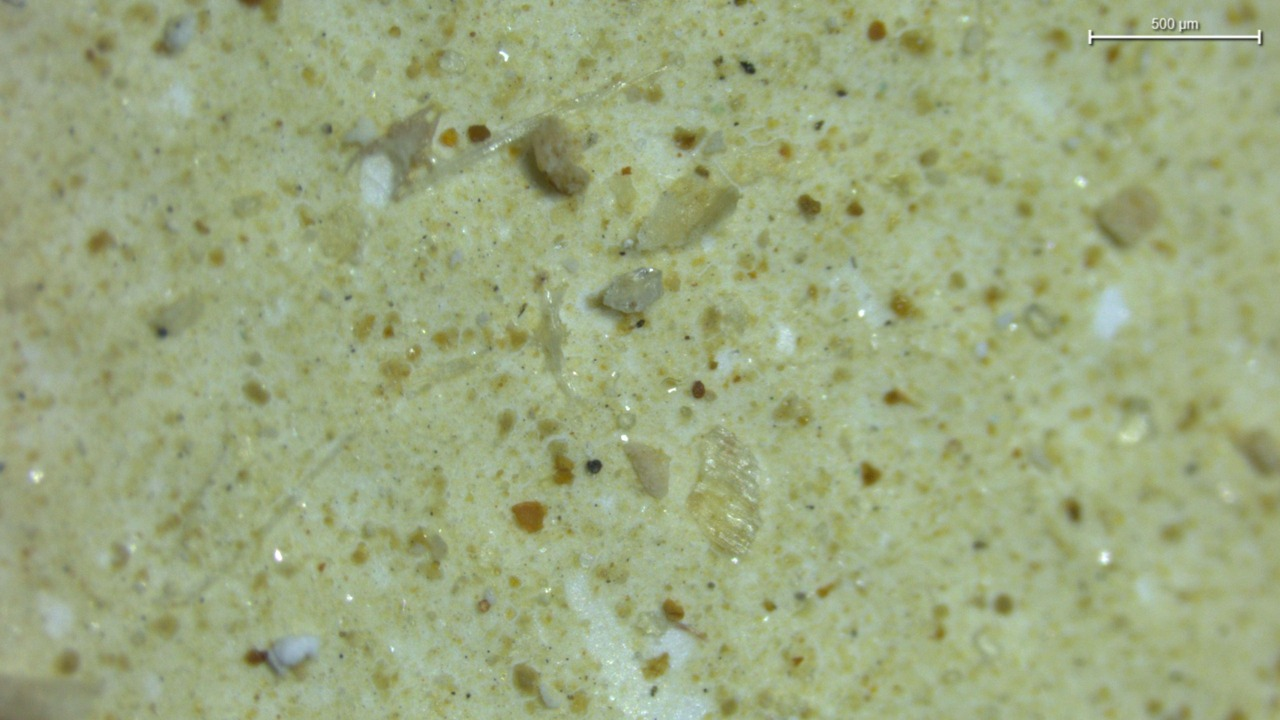microplastic_fragment: (688, 426, 762, 555), (636, 173, 739, 250), (529, 116, 590, 195), (603, 267, 664, 313), (624, 442, 669, 498), (266, 635, 319, 674)
